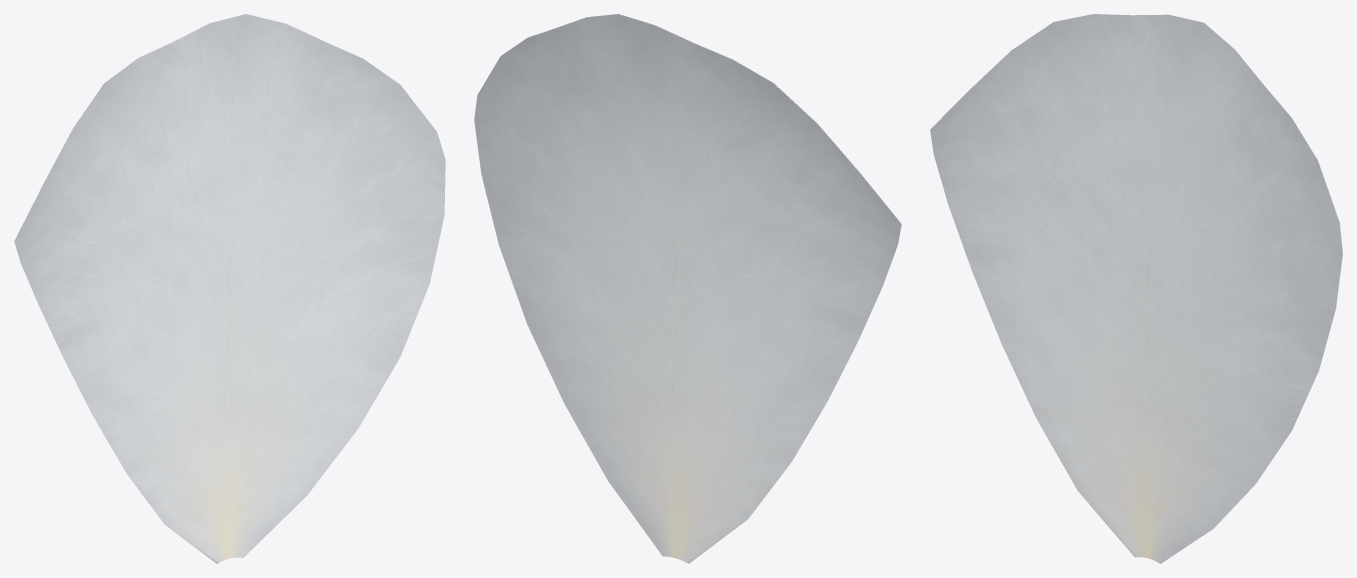
The model's file is outer_01.glb.
3 renders of one model, left to right at view 1: azimuth 30°, elevation 25°; view 2: azimuth 150°, elevation 25°; view 3: azimuth 330°, elevation 25°, orthographic. The views are drawn at different scales.
Parts seen in each view (by area): view 1: outer_01; view 2: outer_01; view 3: outer_01.
Boxes of the visible parts, box(x1,y1,x2,y2) form: outer_01: box(14, 14, 445, 563); outer_01: box(474, 14, 901, 563); outer_01: box(930, 14, 1342, 563).
Bounding box in the file's own units: 0.079 × 0.0946 × 0.012.
Materials: 1 (1 with a texture image).
